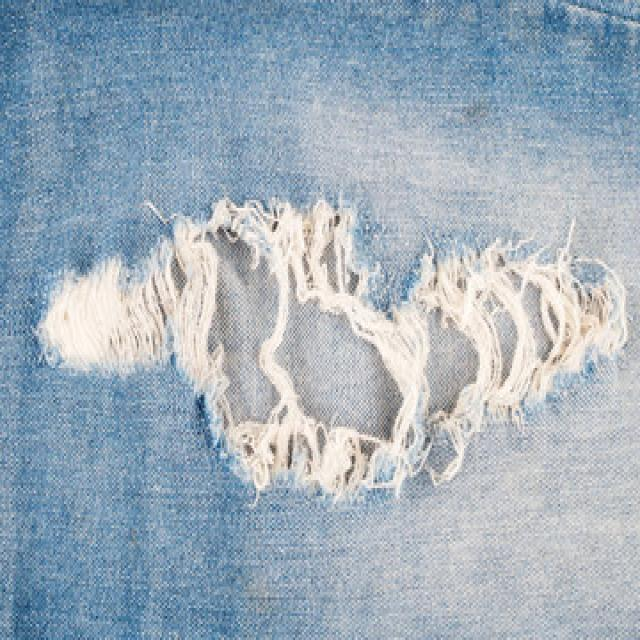Hole: (37, 199, 629, 502)
